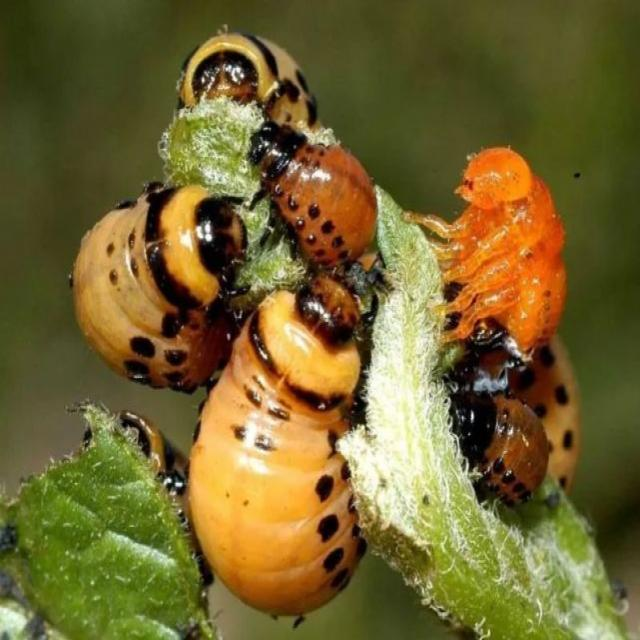ShuCaiHuaBanChong-Larva-: (190, 277, 396, 610), (75, 188, 236, 388), (250, 117, 392, 290), (449, 373, 559, 523)
